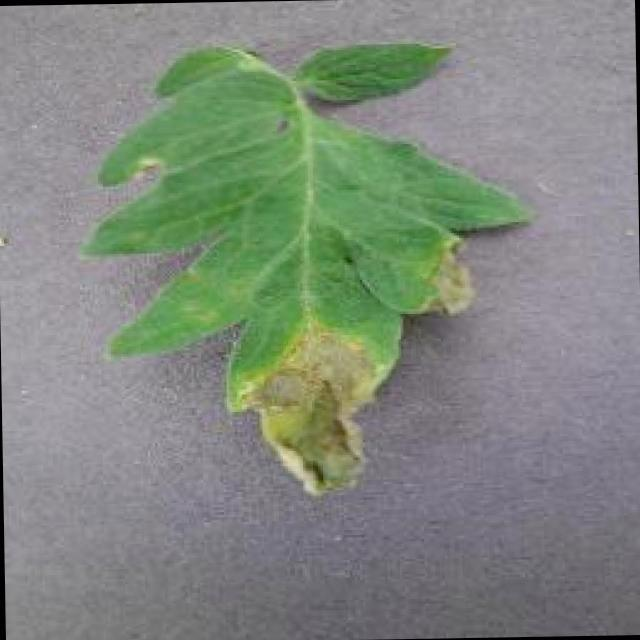Tomato late blight leaf: (94, 36, 542, 512)
